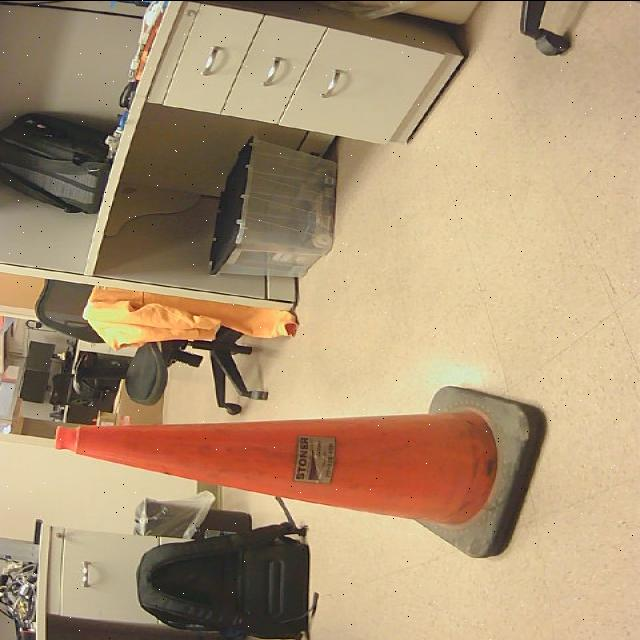traffic cone: (54, 387, 550, 558)
